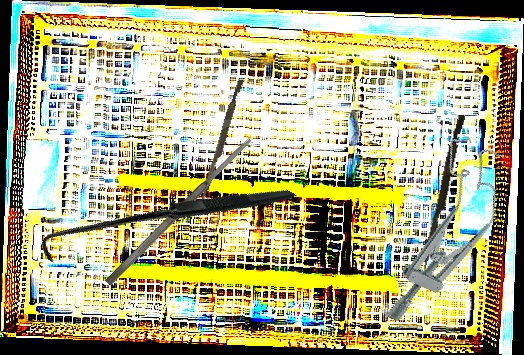Hook Surgical: (36, 96, 297, 352)
Pusher: (421, 113, 466, 272), (199, 78, 244, 207)
Spatula Surgical: (103, 136, 255, 287)
Speculum: (371, 130, 522, 341)
